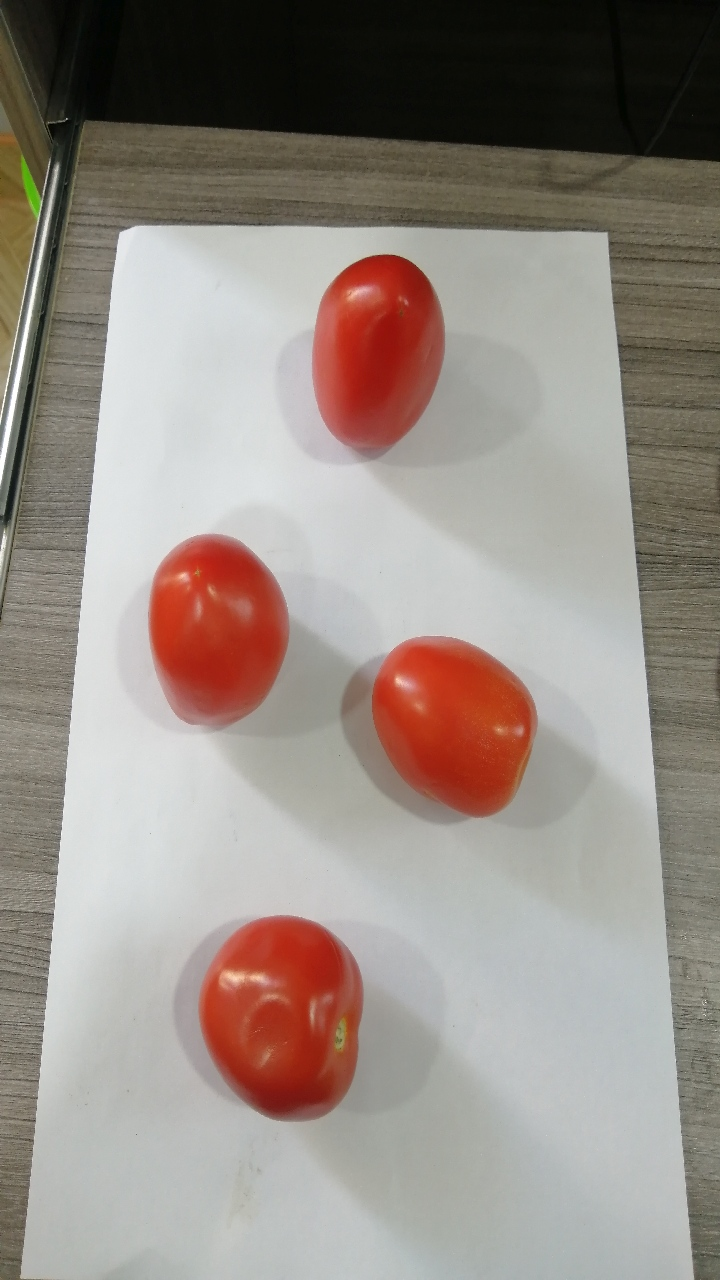tomateRojo: (184, 894, 392, 1134), (129, 519, 312, 757), (366, 608, 557, 826), (275, 246, 461, 451)
